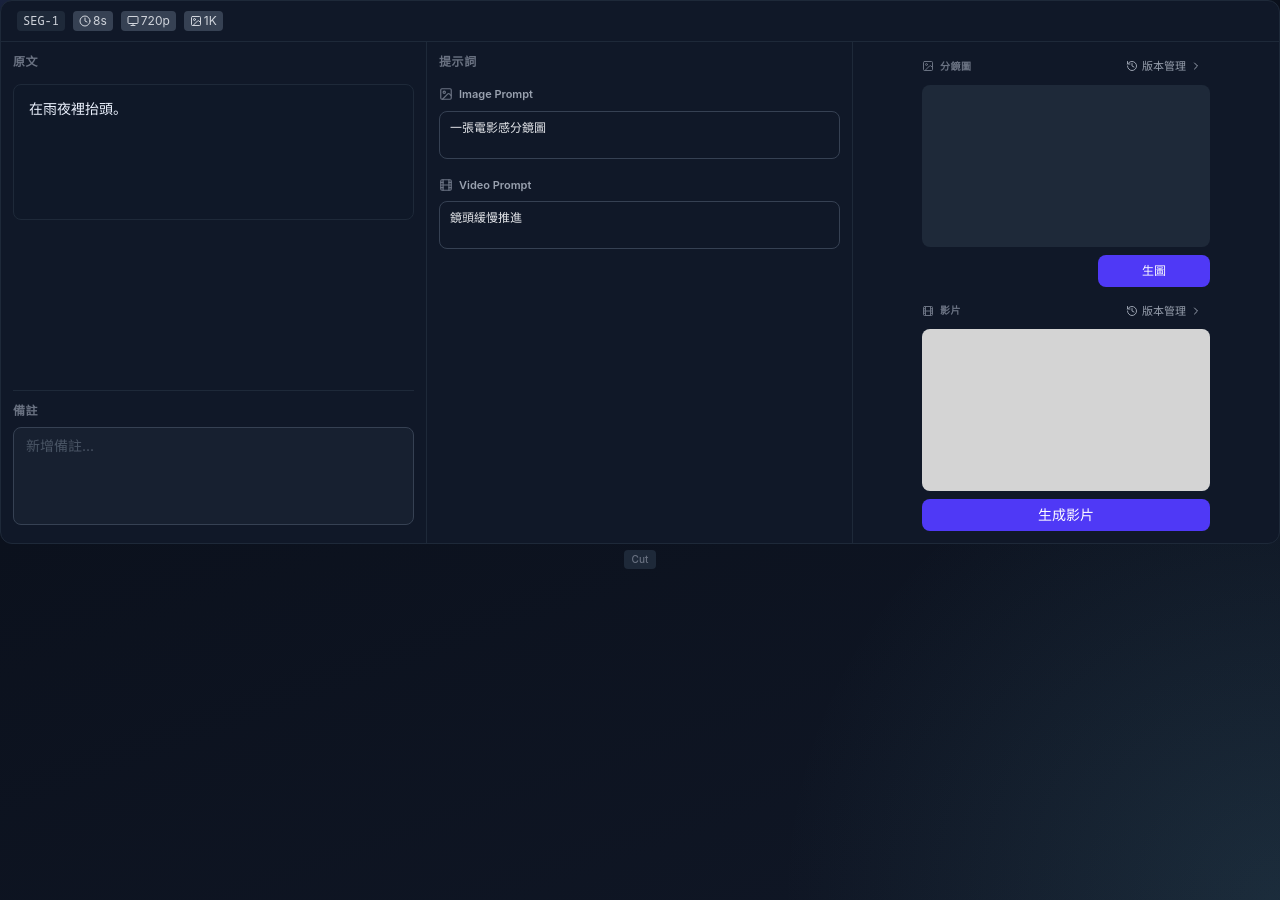
Scenario: SegmentCard › disables unavailable duration choices when Veo constraints leave only 8 seconds
The image size is (1280, 900).
Click the button "8s": (93, 21) [73, 11, 113, 31]
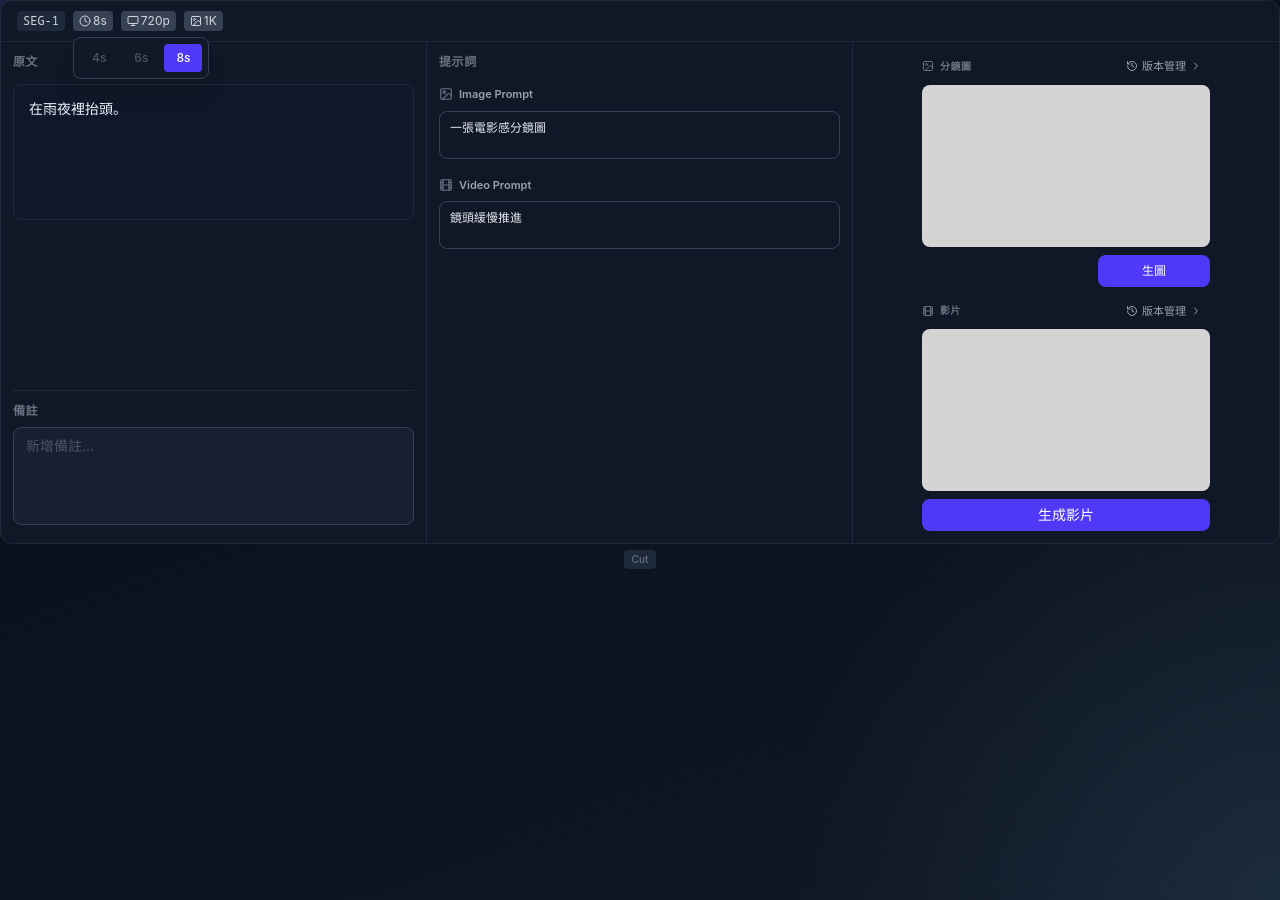
Check: the radio button labelled "4s" is disabled, box [80, 44, 118, 72]
Check: the radio button labelled "6s" is disabled, box [122, 44, 160, 72]
Check: the radio button labelled "8s" is enabled, box [164, 44, 202, 72]
